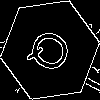Q: (25, 25, 81, 79)
